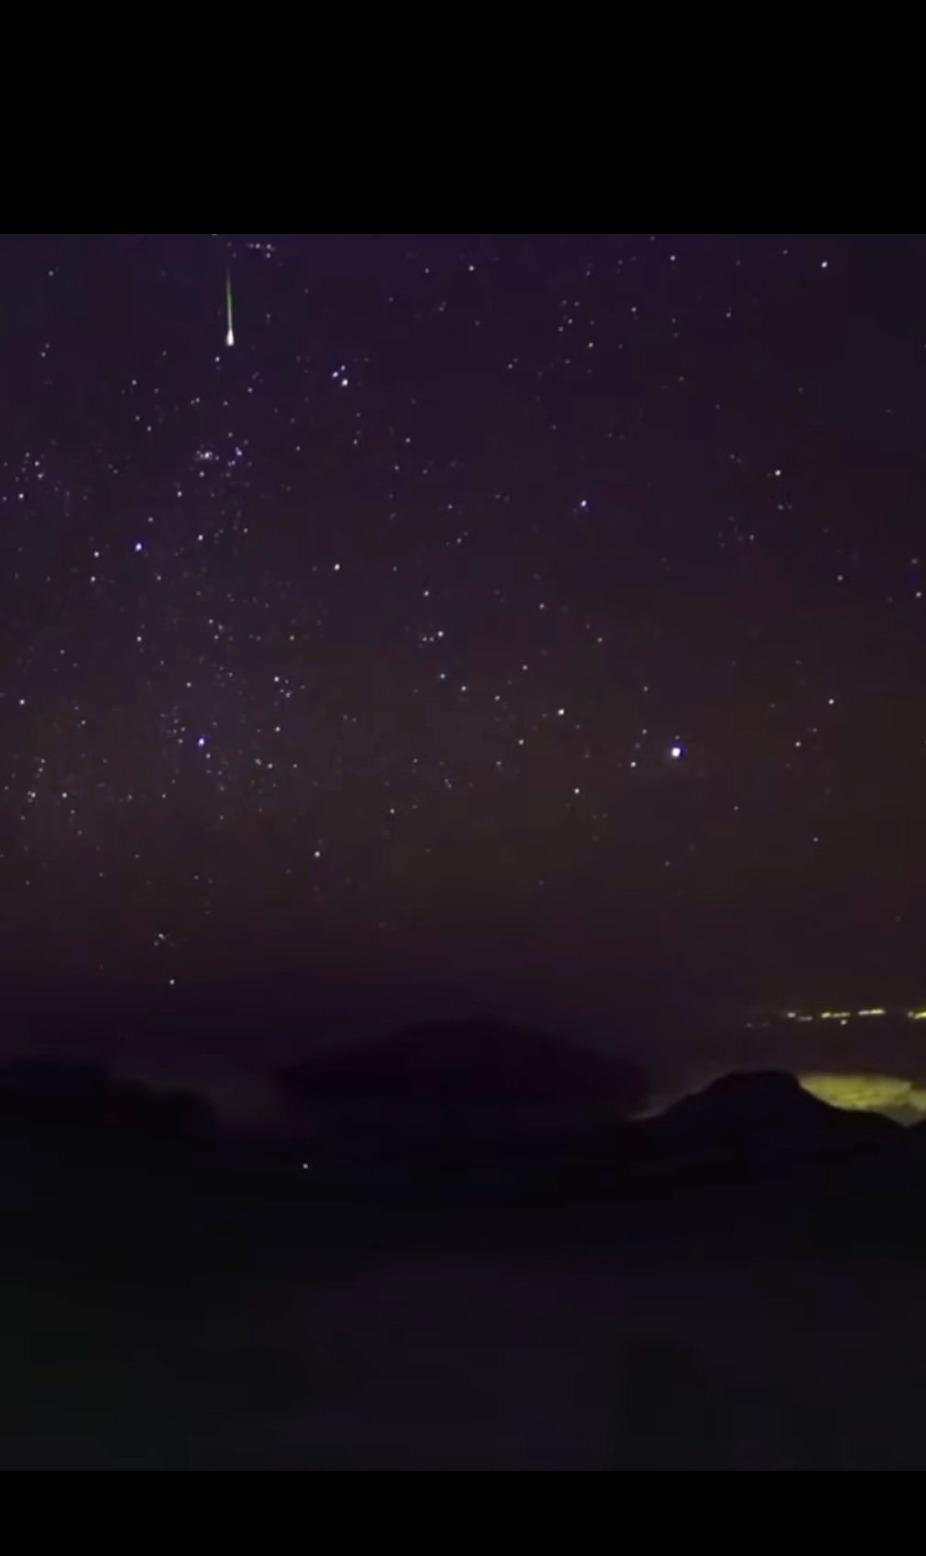meteorite: (208, 252, 250, 353)
